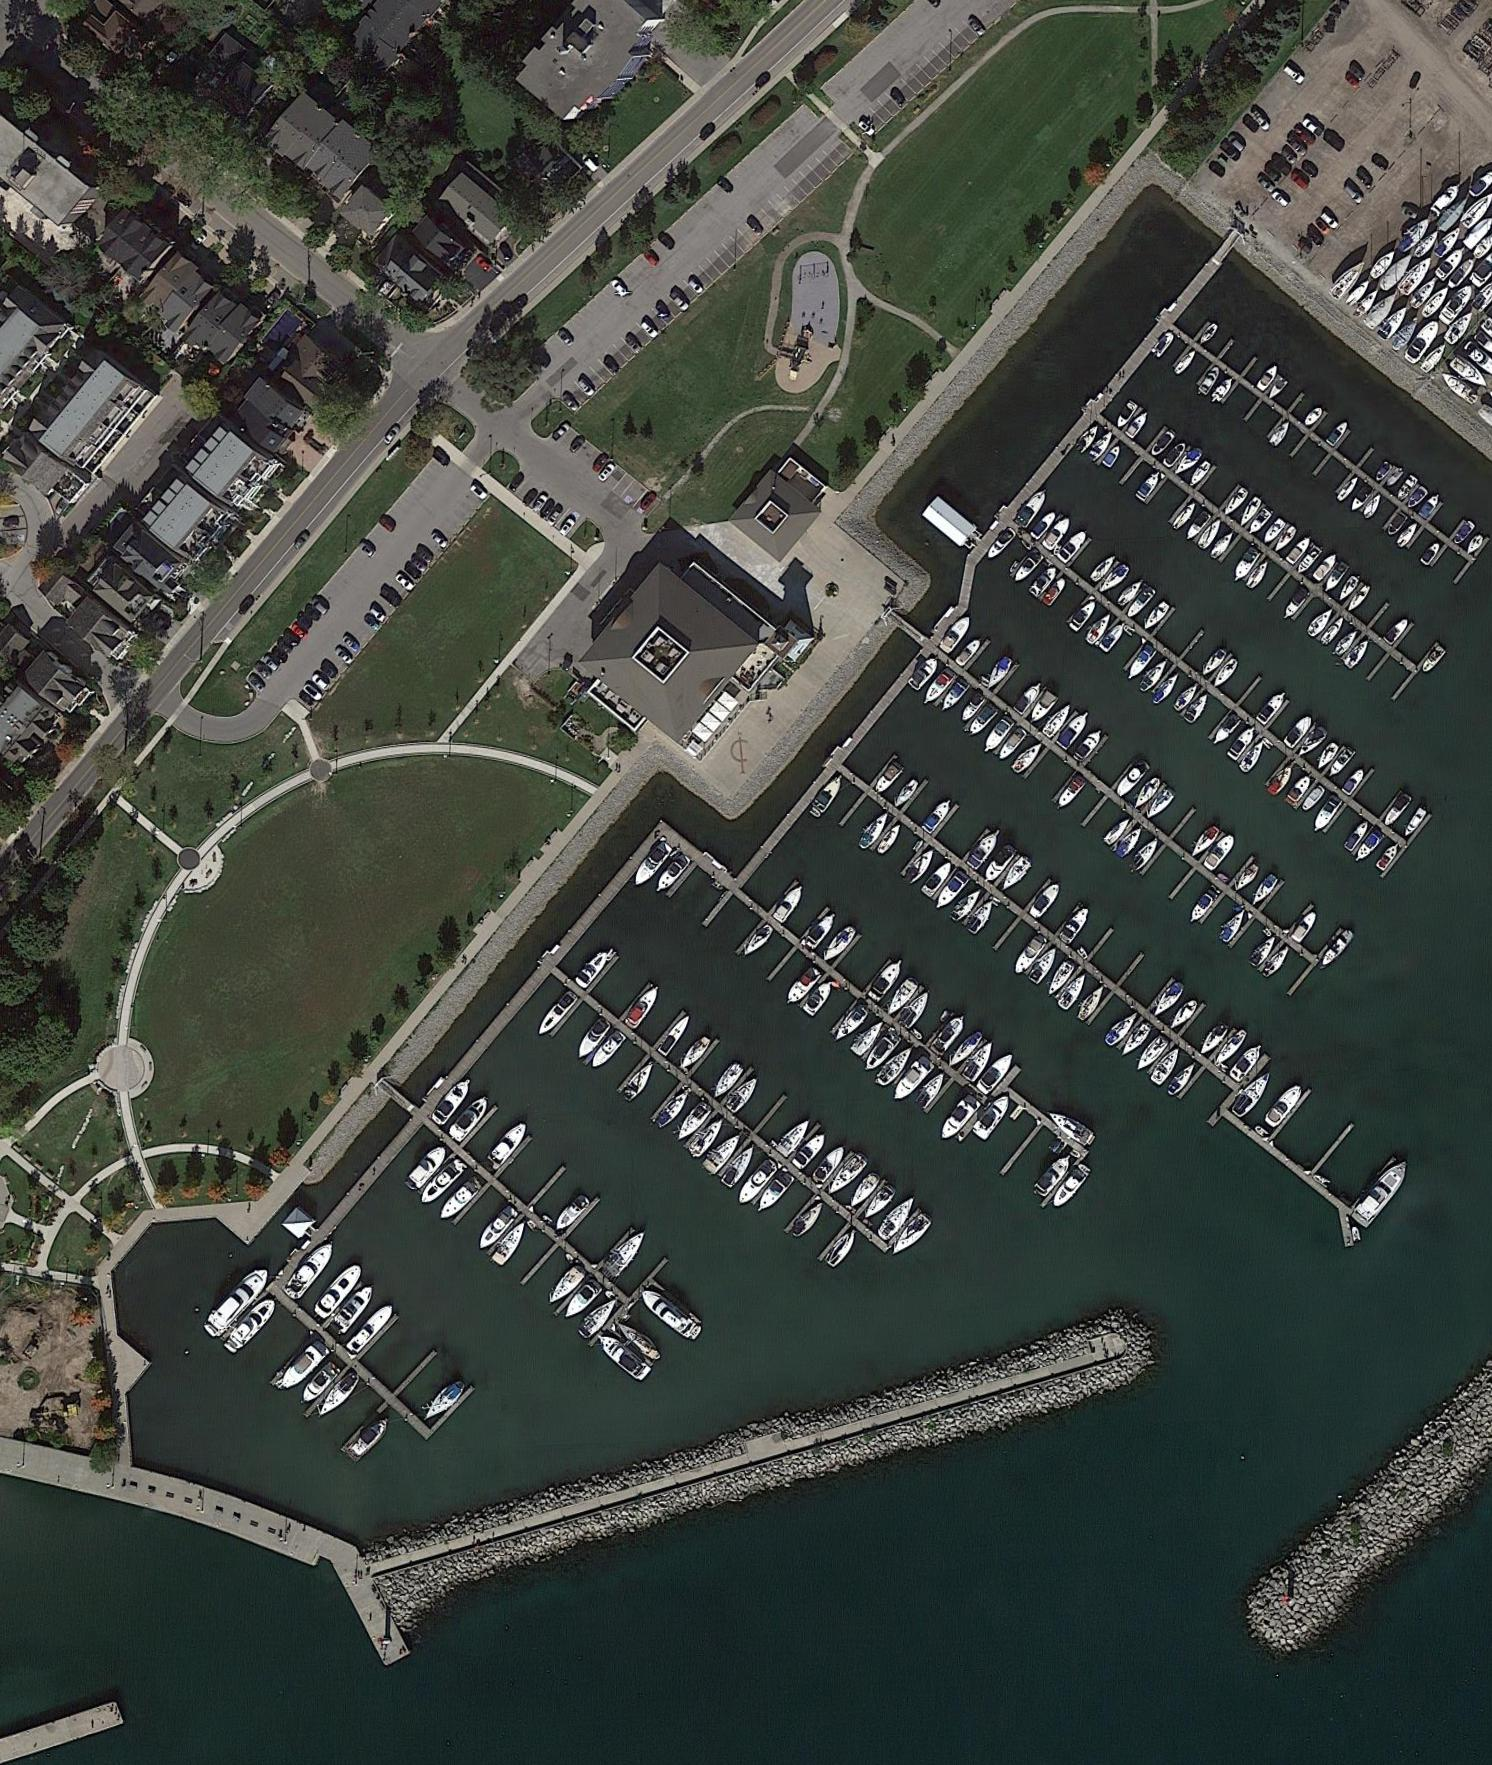harbor: (815, 735, 1415, 1243), (333, 1298, 1166, 1634), (632, 797, 1116, 1219), (911, 607, 1359, 1007), (987, 485, 1438, 878), (521, 931, 936, 1295), (1078, 390, 1449, 709), (388, 1071, 719, 1387), (1152, 302, 1491, 587), (198, 1224, 483, 1493)
ship: (198, 1263, 273, 1342), (1347, 1155, 1415, 1231), (214, 1292, 287, 1360), (277, 1238, 339, 1304), (638, 1284, 705, 1344), (310, 1259, 367, 1322), (276, 1334, 333, 1393), (596, 1330, 653, 1383), (598, 1225, 651, 1282), (345, 1302, 399, 1357), (443, 1090, 494, 1146), (436, 1172, 489, 1225), (416, 1155, 469, 1208), (417, 1375, 468, 1428), (482, 1117, 532, 1171), (934, 1091, 984, 1145), (886, 1052, 936, 1106), (732, 1154, 782, 1207), (315, 1367, 365, 1420), (533, 986, 580, 1041), (401, 1142, 450, 1194), (428, 1075, 476, 1128), (472, 1201, 521, 1252), (330, 1283, 377, 1336), (1048, 1159, 1095, 1212), (575, 1292, 622, 1344), (826, 1148, 872, 1201), (1228, 1068, 1274, 1121), (543, 1259, 591, 1309), (872, 1193, 919, 1244), (1047, 1102, 1099, 1148), (614, 1318, 667, 1363), (345, 1413, 392, 1463), (631, 838, 677, 889), (297, 1358, 343, 1407), (752, 1165, 796, 1216), (548, 1190, 594, 1238), (973, 1048, 1018, 1097), (888, 1210, 933, 1258), (1261, 1082, 1306, 1130), (971, 1092, 1014, 1142), (860, 1027, 905, 1074), (558, 1278, 604, 1323), (671, 1097, 715, 1144), (621, 983, 663, 1032), (874, 1040, 916, 1089), (865, 955, 906, 1005), (925, 1011, 969, 1057), (1325, 257, 1369, 303), (781, 961, 824, 1008), (685, 1114, 727, 1162), (489, 1220, 531, 1268), (1316, 923, 1358, 971), (1403, 318, 1443, 368), (959, 1035, 998, 1086), (817, 920, 861, 965), (1032, 1153, 1075, 1199), (930, 866, 972, 913), (588, 1025, 629, 1073), (829, 1000, 871, 1046), (675, 1027, 715, 1075), (1011, 929, 1051, 977), (883, 971, 923, 1019), (807, 771, 847, 819), (1395, 253, 1435, 301), (701, 1132, 744, 1176), (651, 1085, 693, 1130), (722, 1072, 764, 1117), (1374, 250, 1415, 296), (720, 1144, 760, 1191), (651, 853, 693, 897), (1025, 878, 1066, 923), (574, 1014, 614, 1060), (859, 1177, 899, 1223), (809, 1141, 849, 1187), (918, 664, 958, 710), (789, 1129, 831, 1172), (981, 839, 1020, 885), (1437, 282, 1476, 328), (656, 1011, 694, 1058), (847, 1016, 888, 1059), (787, 1198, 827, 1242), (917, 857, 957, 901), (936, 612, 976, 656), (845, 1165, 884, 1210), (1146, 1044, 1185, 1089), (709, 1057, 747, 1103), (774, 1116, 814, 1159), (963, 828, 1002, 872), (853, 809, 892, 853), (918, 793, 957, 836), (945, 1027, 984, 1070), (1438, 368, 1481, 407), (1131, 1031, 1170, 1074), (1055, 969, 1093, 1013), (997, 850, 1035, 894), (897, 987, 935, 1031), (1227, 1039, 1265, 1083), (1113, 756, 1151, 800), (1307, 790, 1345, 834), (1056, 707, 1093, 752), (980, 711, 1017, 756), (899, 844, 938, 886), (1164, 993, 1203, 1035), (574, 947, 612, 990), (800, 977, 838, 1020), (619, 1060, 656, 1104), (1447, 353, 1491, 390), (1014, 485, 1051, 529), (1123, 639, 1159, 684), (1361, 291, 1399, 333), (1201, 832, 1239, 874), (1101, 1009, 1141, 1048), (1142, 783, 1180, 824), (770, 884, 807, 926), (1150, 978, 1187, 1020), (906, 652, 944, 692), (1058, 904, 1094, 946), (1165, 1057, 1201, 1099), (824, 1227, 859, 1270), (1228, 543, 1263, 586), (946, 886, 985, 924), (872, 756, 908, 797), (1441, 307, 1477, 348), (1117, 1018, 1153, 1059), (912, 1069, 947, 1111), (1055, 526, 1092, 565), (1039, 513, 1075, 553), (1125, 582, 1161, 622), (1186, 820, 1222, 860), (1027, 945, 1062, 986), (1025, 685, 1060, 726), (1186, 883, 1221, 924), (1043, 956, 1077, 998), (1294, 722, 1331, 760), (1380, 789, 1416, 828), (964, 897, 999, 937), (937, 677, 972, 717), (804, 910, 838, 951), (739, 923, 775, 961), (1436, 196, 1471, 235), (984, 524, 1019, 563), (1074, 984, 1108, 1024), (1377, 303, 1411, 343), (1213, 1027, 1247, 1067), (1396, 217, 1432, 254), (1026, 562, 1061, 600), (995, 724, 1030, 762), (1260, 943, 1295, 981), (1281, 713, 1316, 751), (1209, 709, 1244, 747), (1041, 701, 1075, 740), (1011, 677, 1045, 716), (1247, 870, 1281, 909), (1256, 688, 1289, 728), (983, 651, 1015, 692), (1406, 274, 1440, 312), (1303, 603, 1337, 641), (1197, 1018, 1230, 1057), (1226, 725, 1259, 764), (1138, 657, 1171, 696), (1217, 907, 1250, 946), (1238, 737, 1270, 777), (1012, 740, 1046, 777), (1148, 671, 1182, 708), (1139, 597, 1173, 634), (1128, 836, 1162, 873), (1429, 180, 1462, 218), (1072, 728, 1105, 766), (1289, 907, 1322, 945), (1339, 817, 1372, 855), (1011, 547, 1043, 586), (1067, 596, 1099, 635), (1082, 609, 1114, 648), (1433, 246, 1466, 283), (1418, 284, 1451, 321), (1056, 772, 1087, 811), (967, 700, 998, 739), (1097, 560, 1131, 595), (889, 773, 921, 810), (1211, 653, 1243, 690), (1265, 761, 1297, 798), (1115, 822, 1146, 860), (1131, 772, 1161, 811), (1400, 802, 1429, 842), (1028, 508, 1061, 543), (1169, 680, 1202, 715), (1446, 255, 1478, 291), (1390, 317, 1422, 353), (1382, 612, 1414, 648), (1353, 828, 1385, 864), (1102, 811, 1133, 848), (1343, 635, 1374, 672), (1248, 932, 1279, 969), (1366, 248, 1398, 283), (1310, 548, 1341, 584), (1183, 507, 1213, 544), (1321, 558, 1351, 595), (1132, 469, 1164, 503), (1283, 532, 1314, 567), (1433, 225, 1464, 260), (1114, 577, 1146, 610), (1220, 485, 1251, 519), (1206, 529, 1237, 563), (1420, 342, 1451, 376), (1259, 513, 1289, 548), (957, 689, 987, 724), (1199, 644, 1229, 679), (1328, 743, 1358, 778), (876, 822, 905, 858), (1197, 516, 1226, 552), (1041, 574, 1070, 610), (1171, 445, 1203, 477), (1086, 552, 1118, 584), (1333, 626, 1364, 659), (1231, 860, 1262, 893), (1149, 427, 1179, 461), (954, 635, 984, 669), (1183, 692, 1213, 726), (1280, 586, 1309, 621), (1318, 614, 1347, 649), (1295, 541, 1323, 577), (1086, 429, 1116, 462), (1343, 581, 1373, 614), (1111, 397, 1140, 431), (1347, 482, 1377, 514), (1170, 500, 1199, 533), (1344, 277, 1373, 310), (1419, 643, 1448, 676), (1099, 621, 1127, 655), (1313, 738, 1340, 773), (1412, 228, 1441, 260), (1352, 288, 1381, 320), (1245, 560, 1273, 593), (1340, 765, 1368, 798), (1186, 456, 1213, 490), (1160, 440, 1189, 471), (1333, 473, 1361, 505), (1267, 416, 1294, 449), (1288, 773, 1315, 806), (1246, 506, 1275, 536), (1375, 841, 1402, 873), (1300, 781, 1327, 813), (1335, 572, 1361, 605), (1237, 495, 1262, 529), (1395, 470, 1420, 504), (1149, 329, 1177, 359), (1124, 409, 1151, 440), (1394, 519, 1421, 550), (1197, 364, 1223, 396), (1255, 362, 1281, 394), (1172, 348, 1199, 378), (1209, 374, 1236, 404), (1324, 419, 1351, 449), (1273, 523, 1299, 553), (1075, 424, 1100, 455), (1417, 491, 1443, 520), (1360, 494, 1385, 524), (1418, 539, 1443, 568), (1385, 510, 1410, 538), (1265, 374, 1288, 404), (1453, 517, 1476, 547), (1301, 401, 1325, 429), (1464, 530, 1487, 558), (1196, 321, 1220, 347), (1100, 443, 1122, 469), (1373, 459, 1394, 484), (1384, 467, 1405, 489), (1313, 1172, 1332, 1190), (1254, 1125, 1269, 1140), (1076, 946, 1089, 963), (1351, 1227, 1362, 1244)
